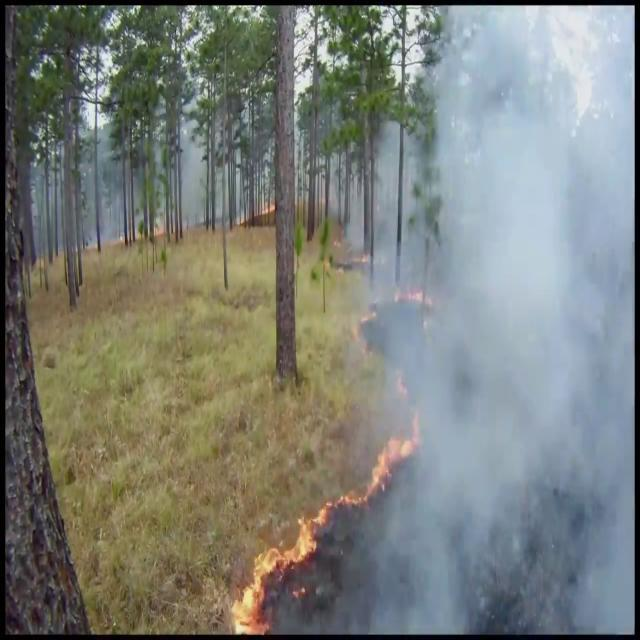Fire: (232, 498, 338, 632), (342, 428, 412, 529)
Smoke: (338, 9, 634, 632)
